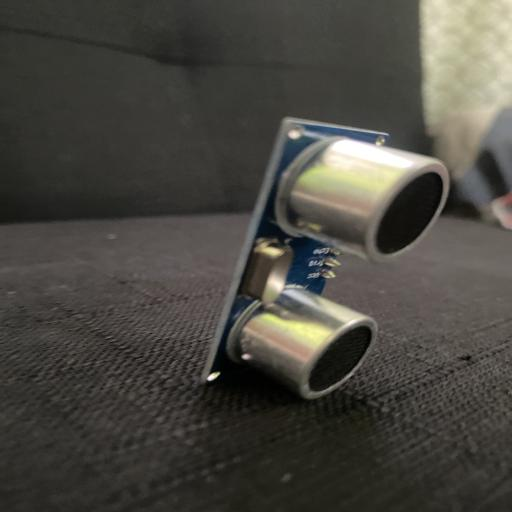Ultrasonic Sensor: (198, 114, 450, 401)
